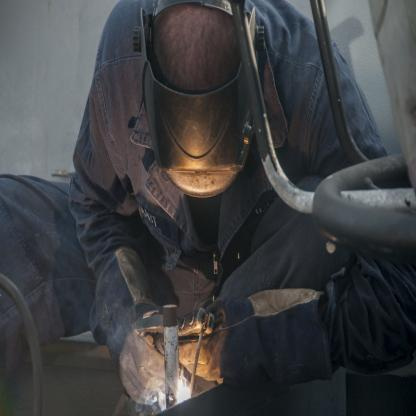Helmet: (139, 0, 259, 228)
